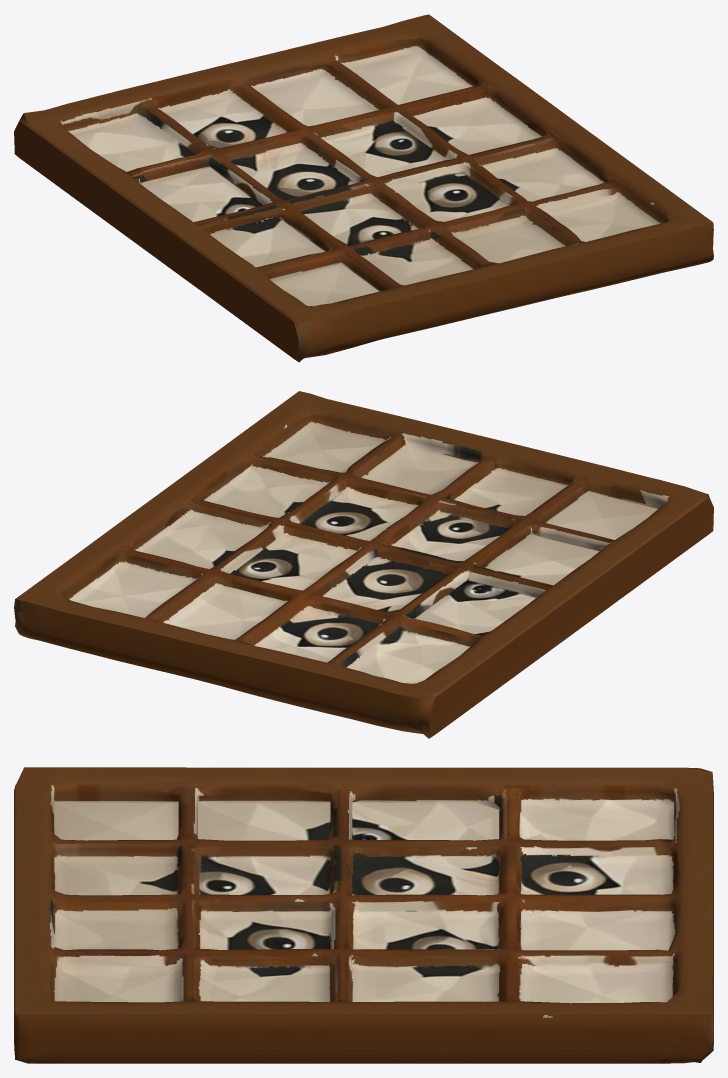
The model's file is Mokumokuren.glb.
3 views of the same model, one above another, from view 1: azimuth 30°, elevation 25°; view 2: azimuth 150°, elevation 25°; view 3: azimuth 270°, elevation 25° (orthographic). The views are drawn at different scales.
Parts seen in each view (by area): view 1: Retopo_mokumokuren.001; view 2: Retopo_mokumokuren.001; view 3: Retopo_mokumokuren.001.
Part boxes in pixels (x1=…): Retopo_mokumokuren.001: x1=14, y1=14, x2=713, y2=362; Retopo_mokumokuren.001: x1=14, y1=391, x2=713, y2=738; Retopo_mokumokuren.001: x1=14, y1=767, x2=713, y2=1063.
Bounding box in the file's own units: 1.65 × 0.1517 × 1.96.
Materials: 1 (1 with a texture image).
